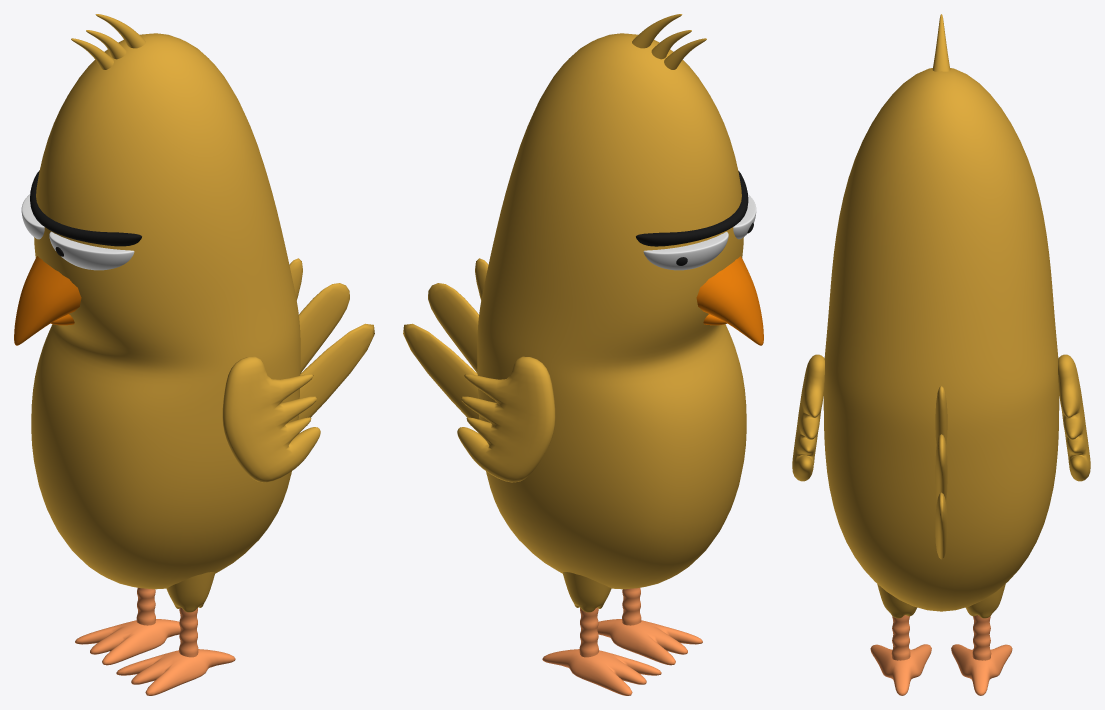
Rendered from OffendedBird.glb.
3 views of the same model, side by side, from view 1: azimuth 30°, elevation 25°; view 2: azimuth 150°, elevation 25°; view 3: azimuth 270°, elevation 25° (orthographic). The views are drawn at different scales.
Parts seen in each view (by area): view 1: OffendedBird001; view 2: OffendedBird001; view 3: OffendedBird001.
Part boxes in pixels (<box>): OffendedBird001: <box>14,14,374,695</box>; OffendedBird001: <box>403,14,763,695</box>; OffendedBird001: <box>792,14,1090,695</box>.
Bounding box in the file's own units: 0.6848 × 1.2 × 0.5173.
